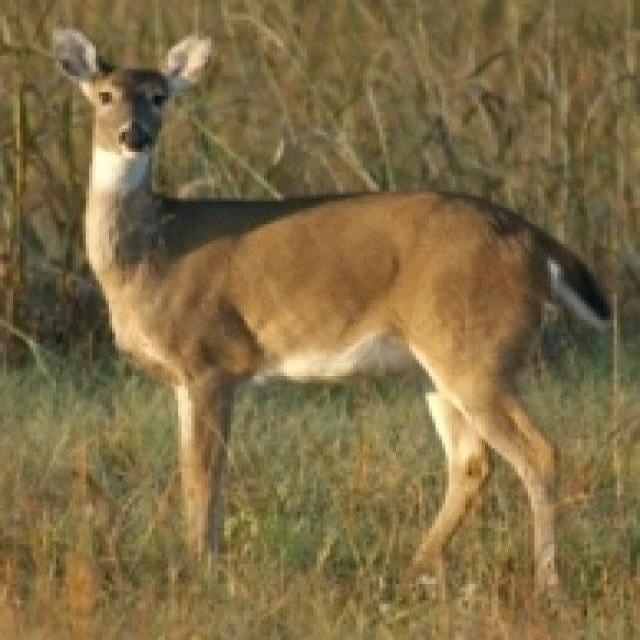deer: (51, 36, 602, 581)
